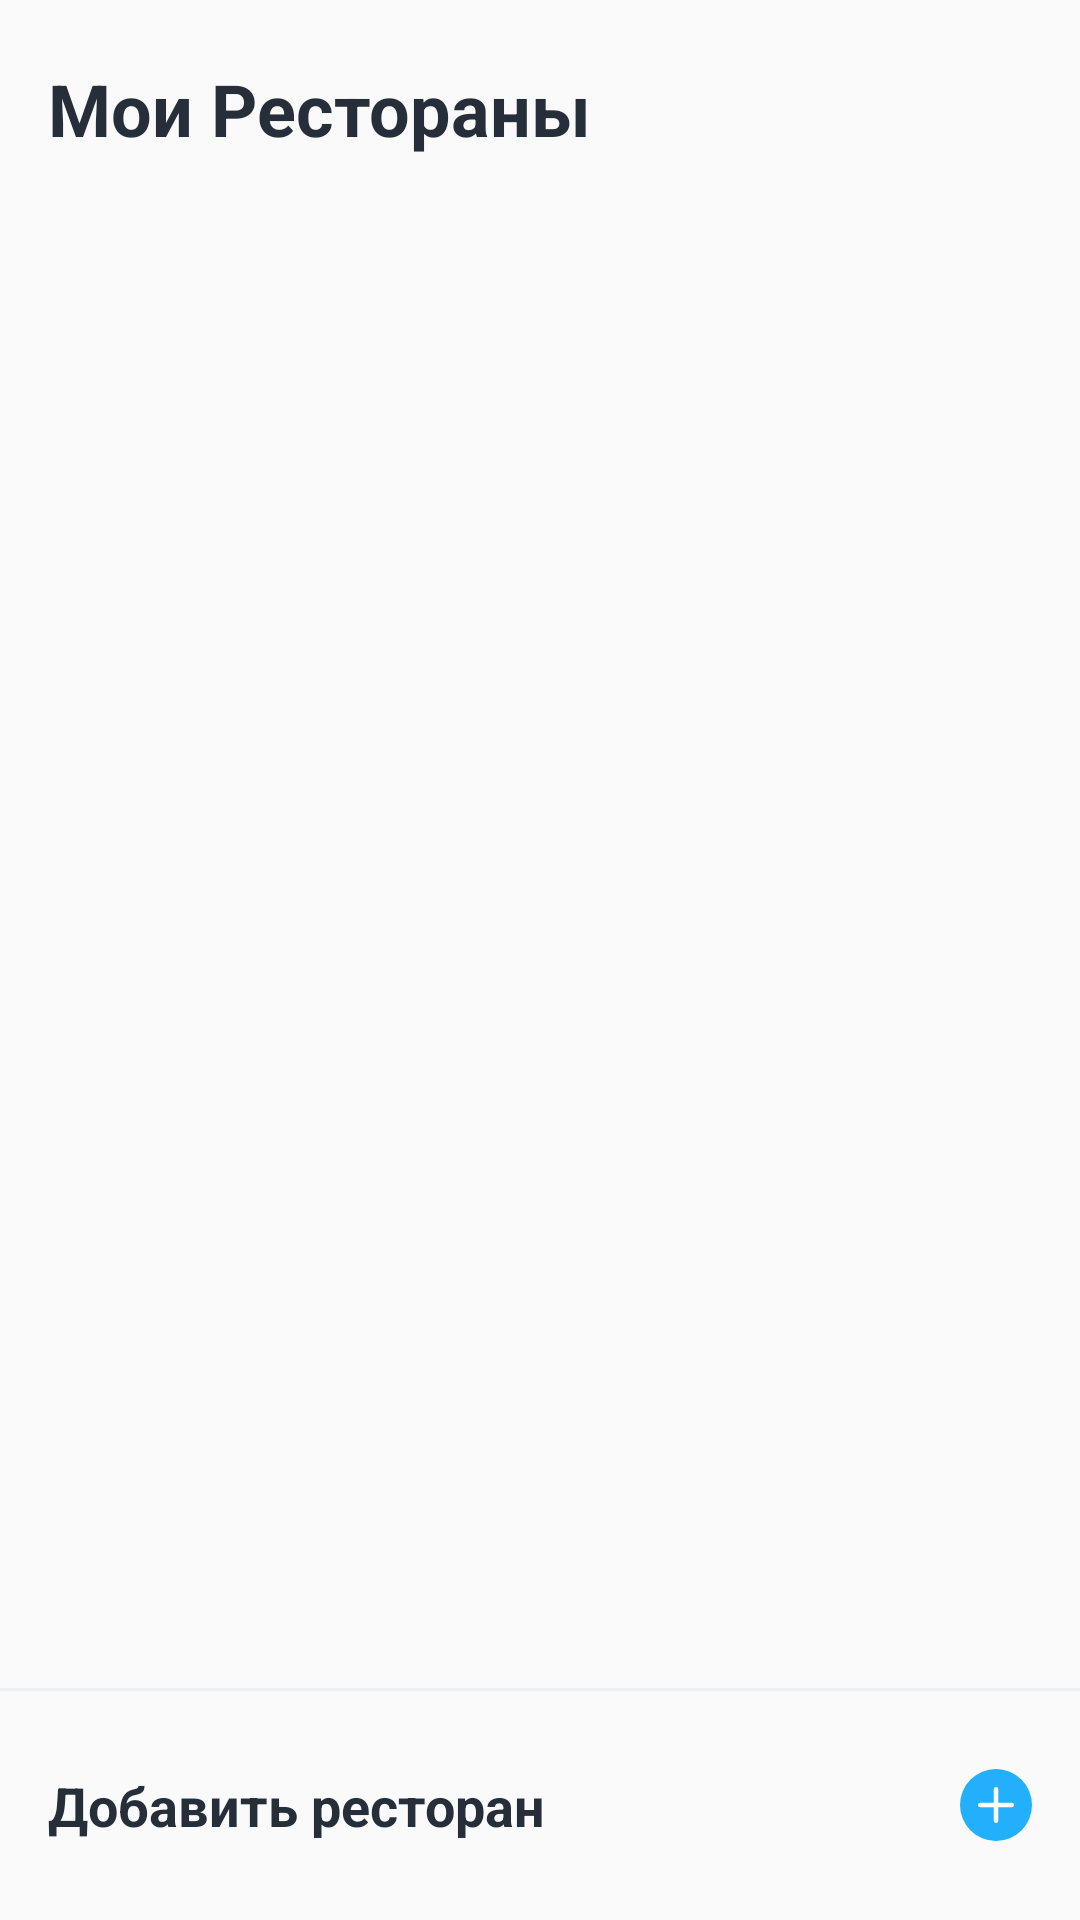

Icon click points for this 1080 x 1920 phone screenshot, format [x,y]:
add restaurant: [996,1805]
